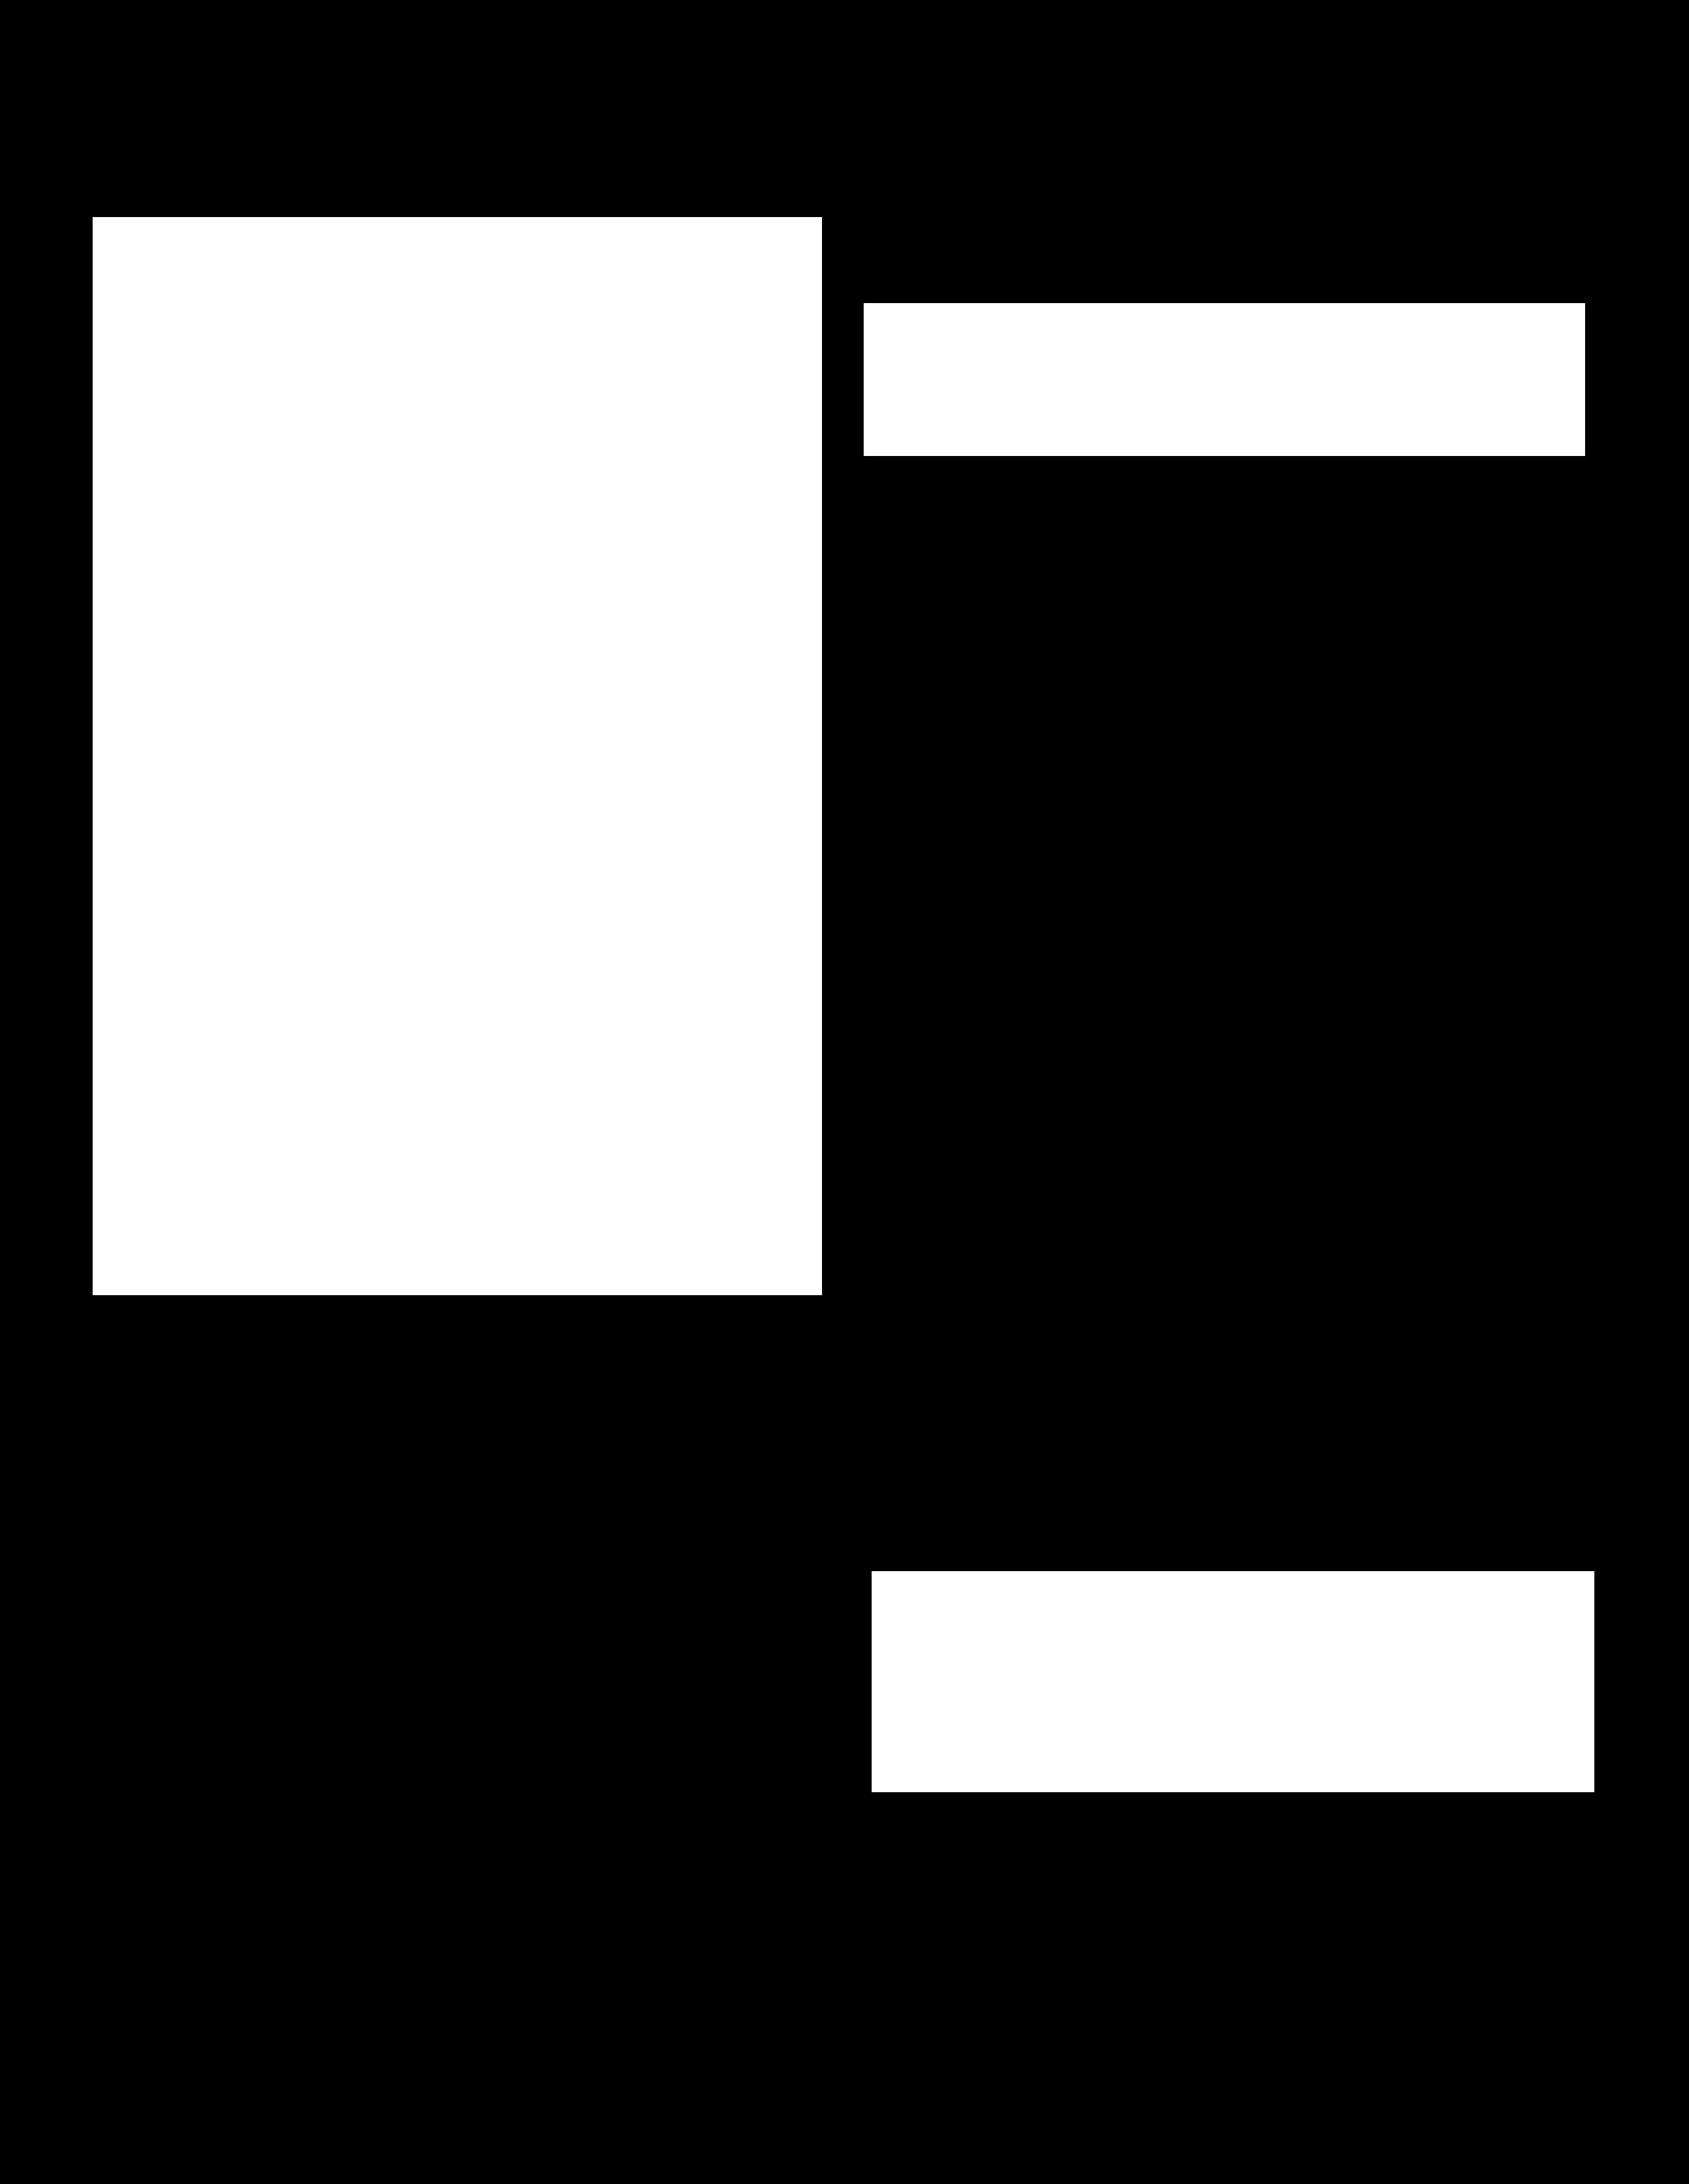table: (92, 216, 821, 1294), (872, 1571, 1593, 1792), (863, 303, 1584, 456)
